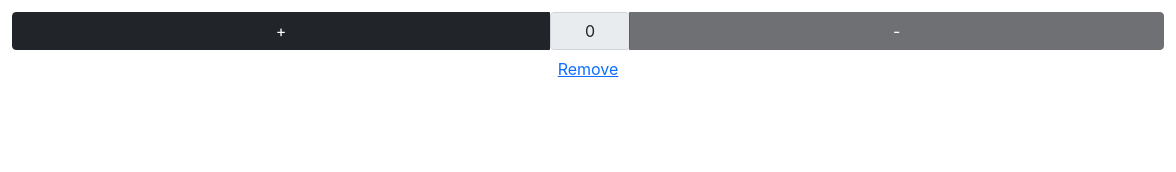
Test case: increments counter
// interact with those elements
Step 1. Click the button with test id "increment" → point(281, 31), box [12,12,550,50]
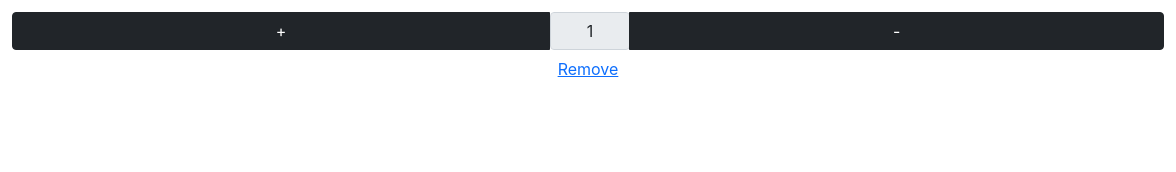
Now the field with test id "counter" holds "1", box [550,12,630,50]
